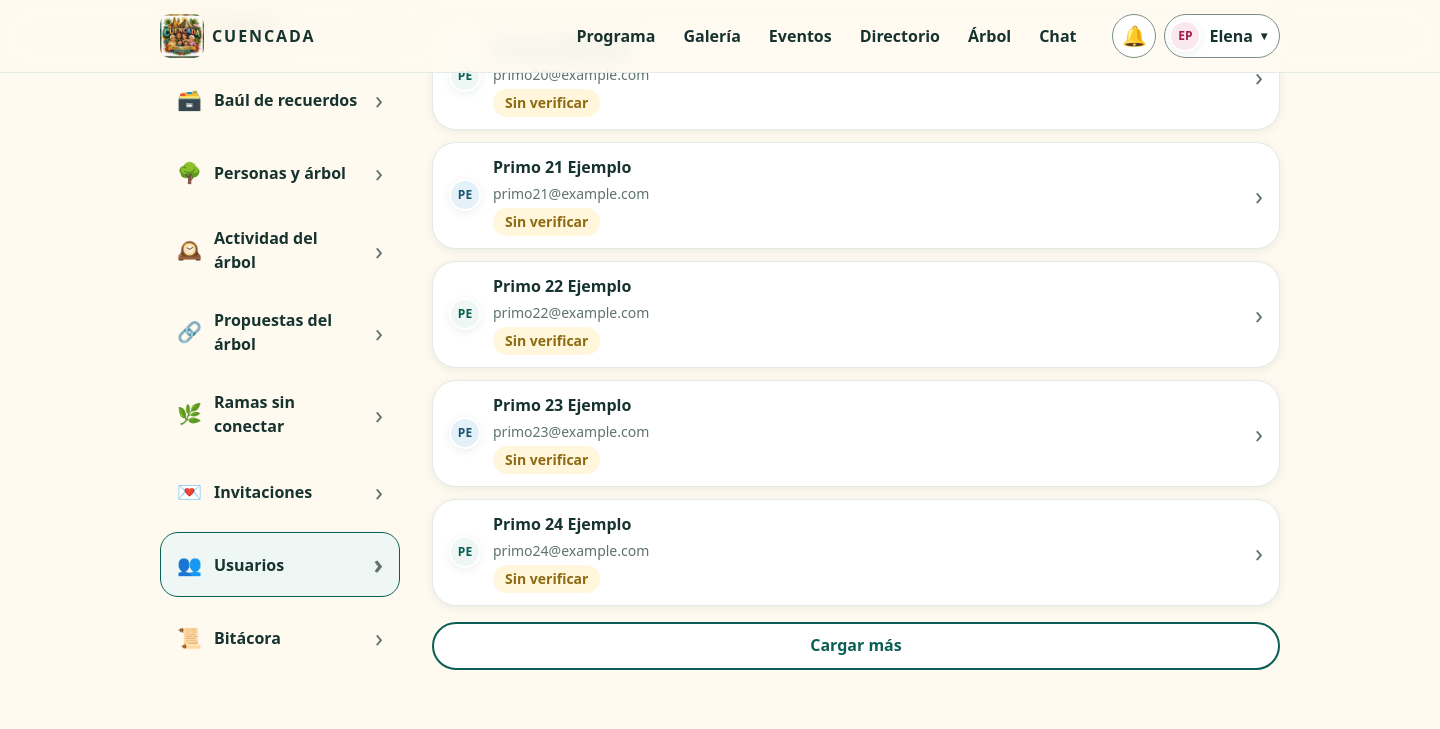
Test: UsersPage › pages the server-filtered unverified list with «Cargar más» and the filter kept
(page scrolled)
Click the button "Cargar más" at point(856, 646), box [432, 622, 1280, 670]
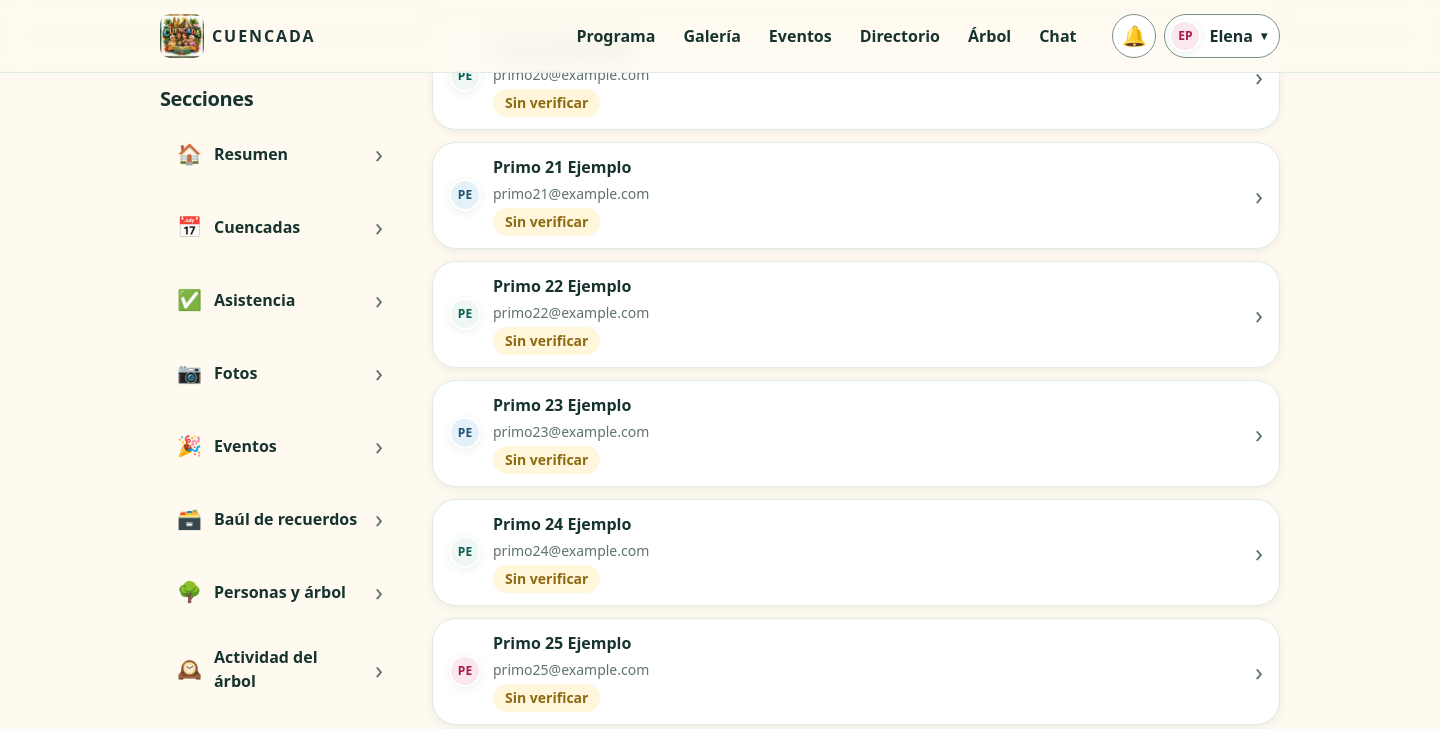
expect the button "Cargar más" is gone: met
